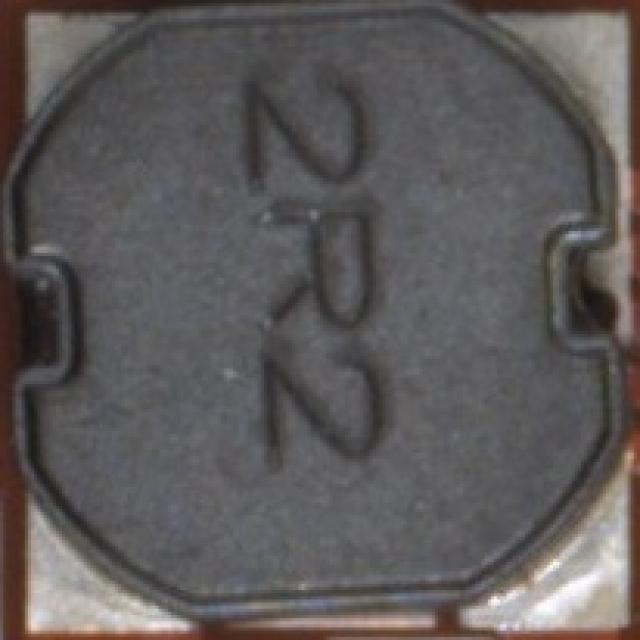inductor F1: (6, 6, 640, 640)
